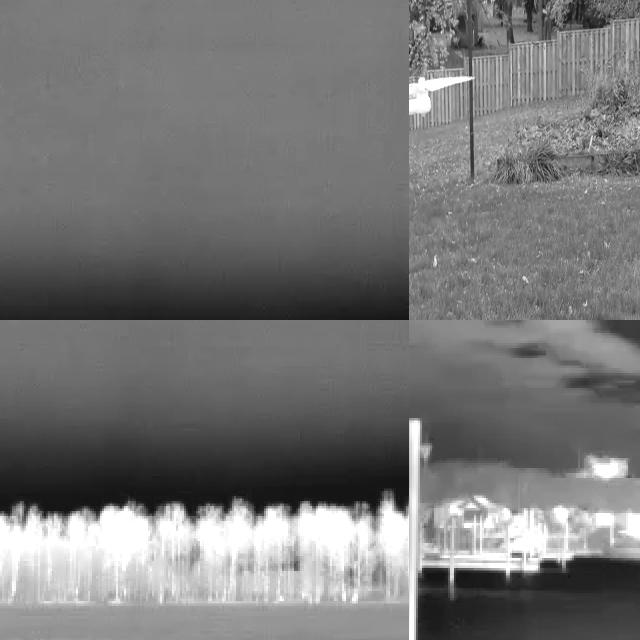drone: (409, 90, 460, 236)
